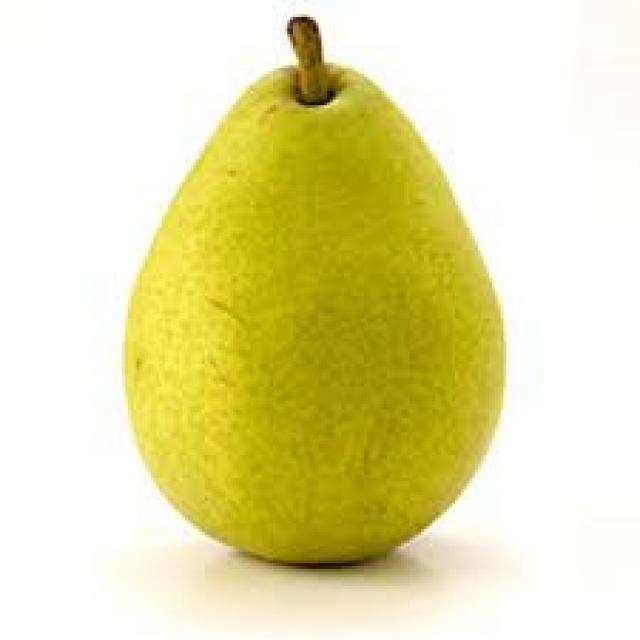pear: (99, 12, 515, 574)
